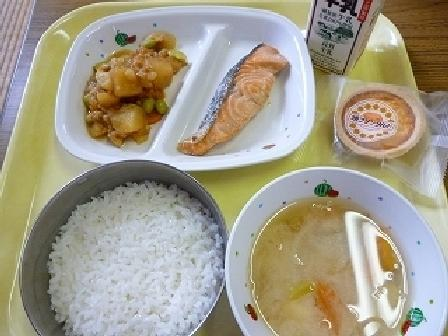Cup desserts: (327, 70, 433, 183)
Fish: (183, 43, 302, 160)
Milk: (297, 0, 397, 80)
Rice: (26, 170, 238, 334)
Soups: (227, 174, 432, 335)
vegetable based cooked food: (67, 31, 189, 141)
